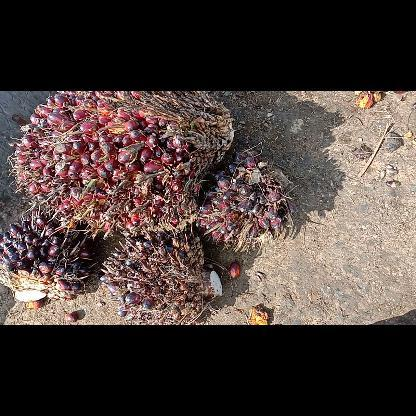TBS abnormal: (104, 232, 222, 324), (200, 148, 292, 244), (0, 214, 87, 303)
TBS masak: (14, 91, 232, 230)
